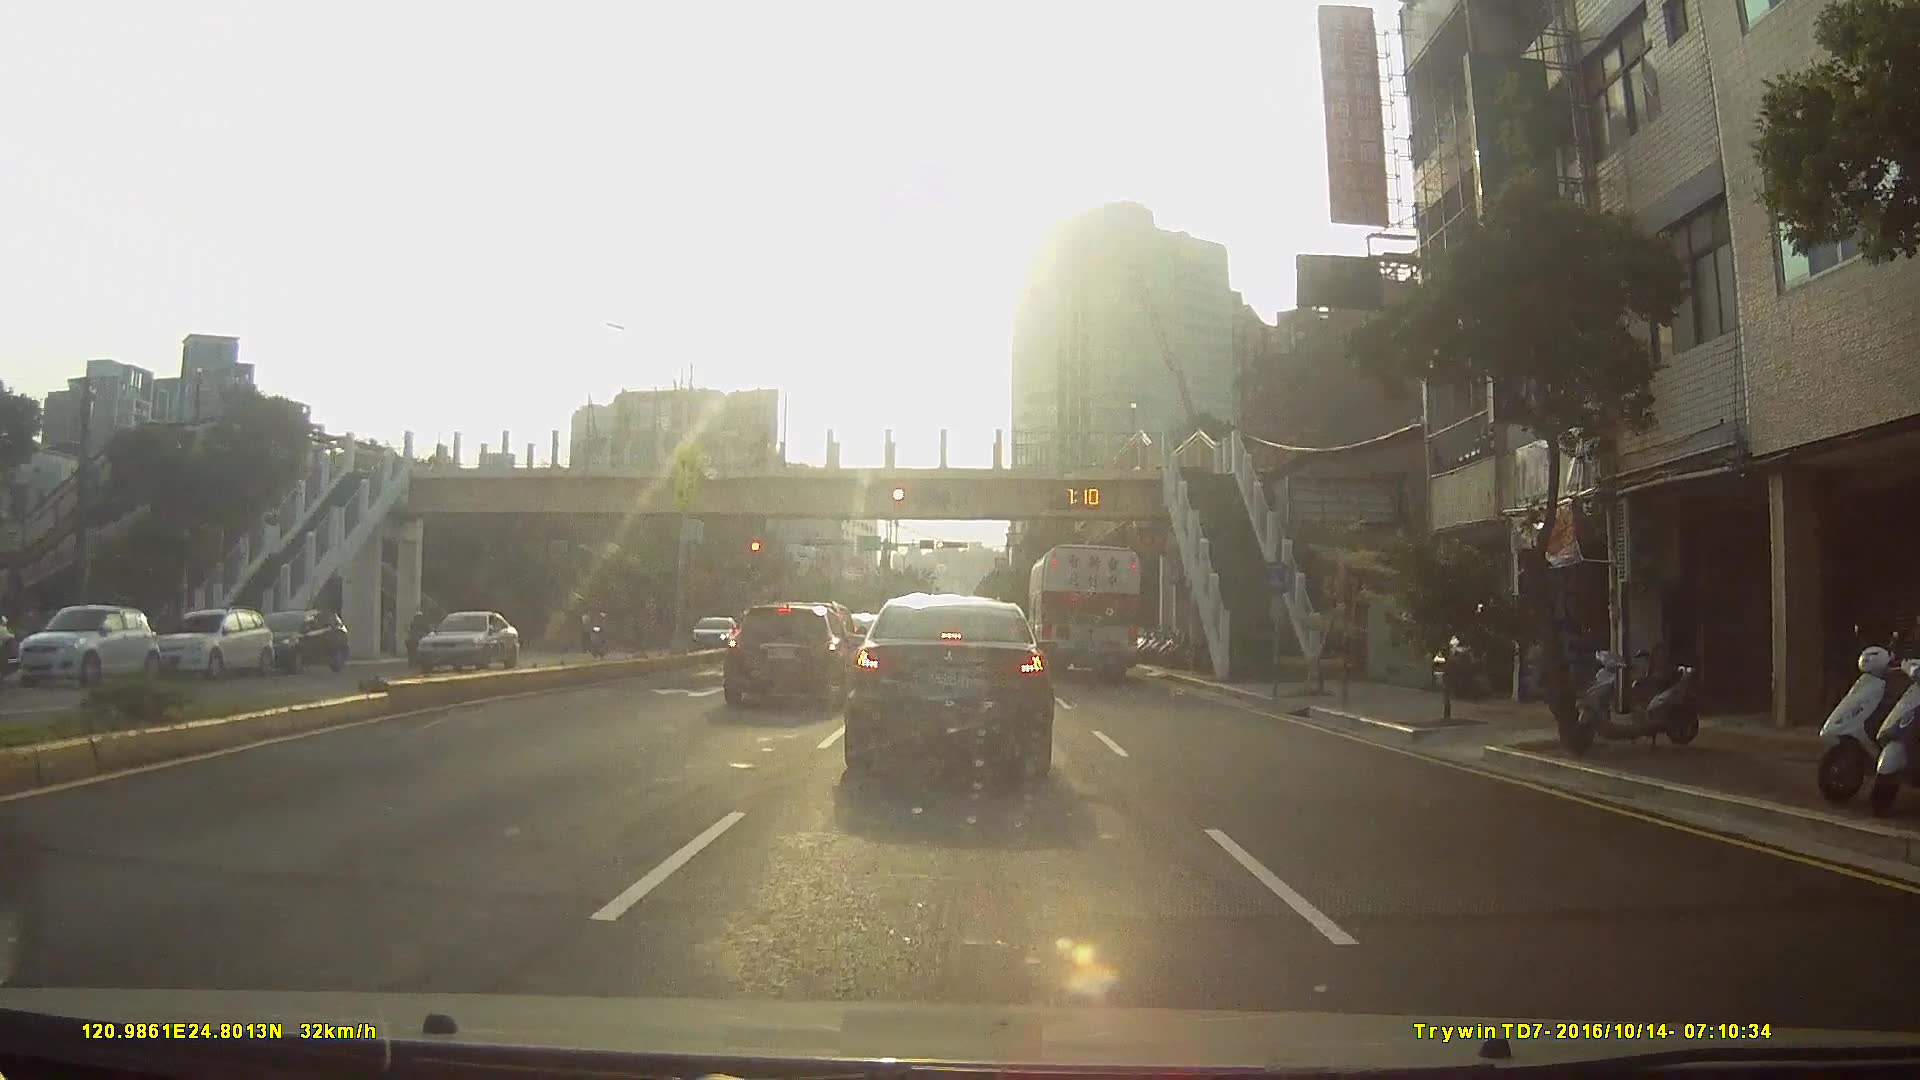vehicle: (841, 593, 1058, 779), (1027, 542, 1145, 682), (720, 597, 858, 707), (11, 603, 156, 687), (144, 605, 270, 676), (402, 605, 513, 670), (252, 607, 348, 671), (682, 615, 733, 653)
